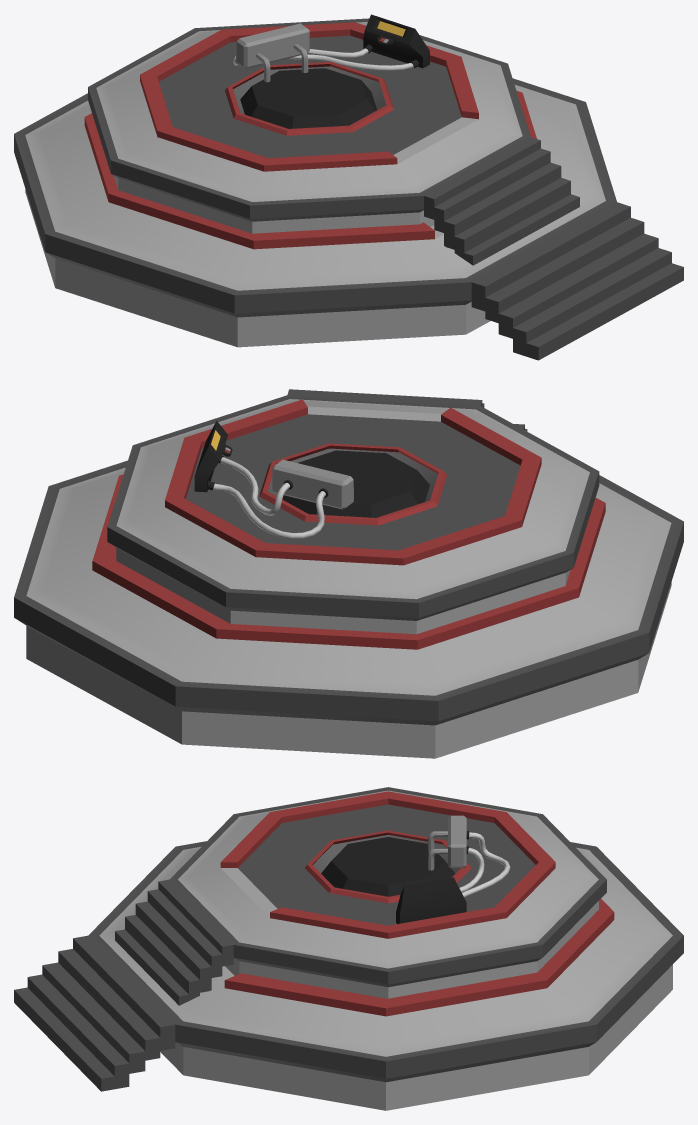
The model's file is Nuclear_LaunchPad.fbx.
3 renders of one model, top to bottom at view 1: azimuth 30°, elevation 25°; view 2: azimuth 150°, elevation 25°; view 3: azimuth 270°, elevation 25°, orthographic. The views are drawn at different scales.
Visible parts, largest first — view 1: control_panel_combined2; view 2: control_panel_combined2; view 3: control_panel_combined2.
Boxes of the visible parts, <box> form: control_panel_combined2: <box>14,14,683,360</box>; control_panel_combined2: <box>14,389,683,758</box>; control_panel_combined2: <box>14,787,683,1110</box>.
Size of the model in its own units: 2240 by 654 by 2519.
